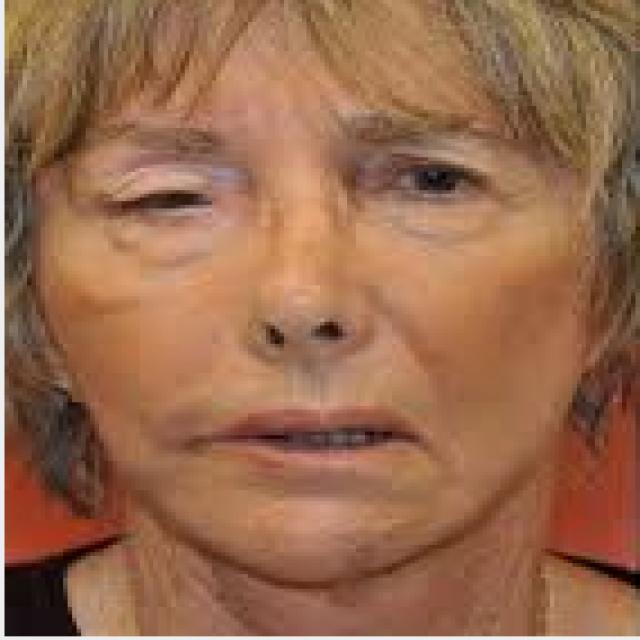stroke_face: (42, 24, 578, 550)
